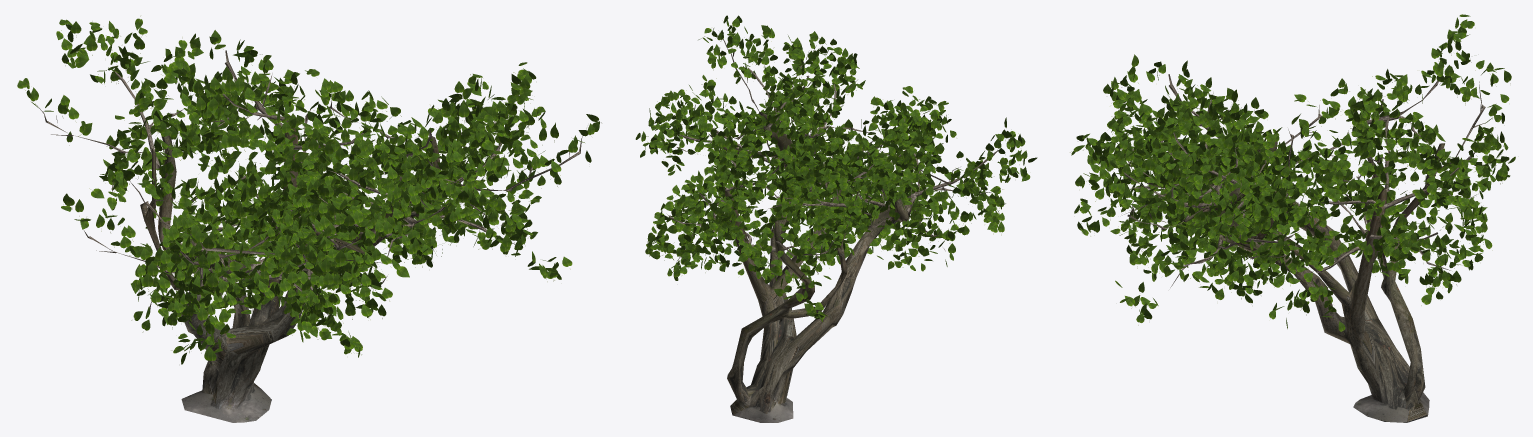
The picture shows the model from 3 angles, left to right: view 1: azimuth 30°, elevation 25°; view 2: azimuth 150°, elevation 25°; view 3: azimuth 270°, elevation 25°; orthographic projection. The views are drawn at different scales.
Visible parts, largest first — view 1: island_tree_02-1, island_tree_02-0, island_tree_02-2; view 2: island_tree_02-1, island_tree_02-0, island_tree_02-2; view 3: island_tree_02-1, island_tree_02-0, island_tree_02-2.
Boxes of the visible parts, x1,y1,x2,y2 form: island_tree_02-1: (17,16,601,364); island_tree_02-0: (140,120,476,422); island_tree_02-2: (37,50,586,319); island_tree_02-1: (635,15,1037,321); island_tree_02-0: (716,112,912,422); island_tree_02-2: (667,39,998,281); island_tree_02-1: (1070,14,1515,333); island_tree_02-0: (1147,112,1444,422); island_tree_02-2: (1121,74,1485,287).
Size of the model in its own units: 172 by 149 by 179.
3 materials, 3 textured.
